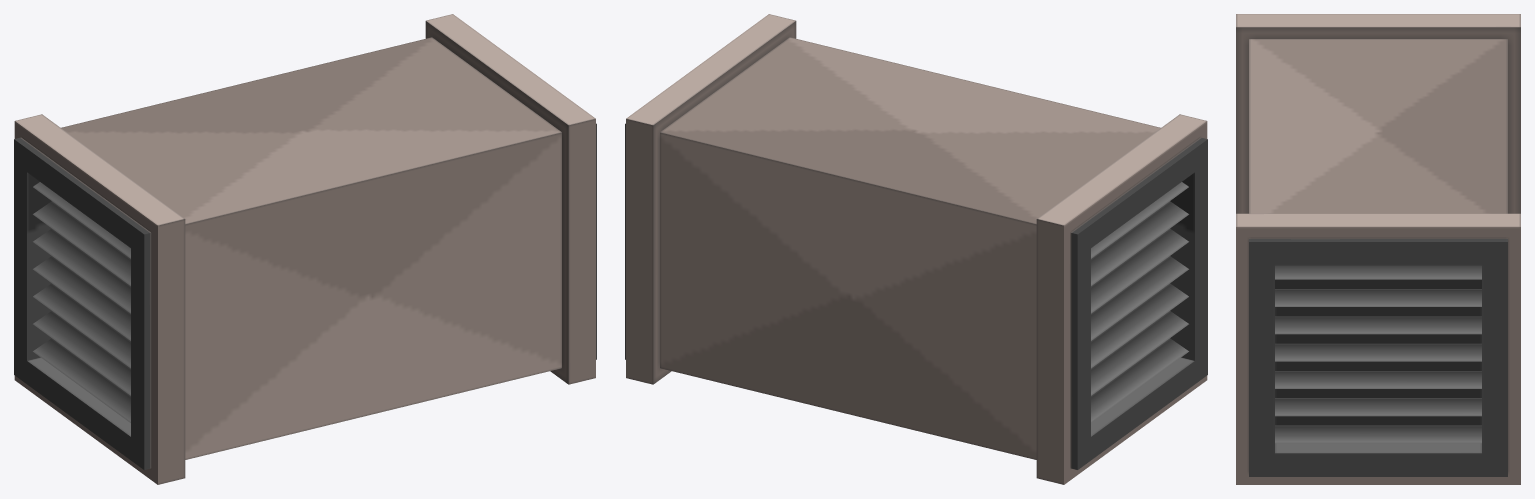
The model's file is obj_airShaft.fbx.
3 views of the same model, side by side, from view 1: azimuth 30°, elevation 25°; view 2: azimuth 150°, elevation 25°; view 3: azimuth 270°, elevation 25° (orthographic).
Parts seen in each view (by area): view 1: obj_airShaft; view 2: obj_airShaft; view 3: obj_airShaft.
Boxes of the visible parts, left/top/right/bottom form: obj_airShaft: left=14, top=14, right=596, bottom=484; obj_airShaft: left=625, top=14, right=1207, bottom=484; obj_airShaft: left=1236, top=14, right=1520, bottom=484.
Size of the model in its own units: 165 by 90.49 by 90.49.
